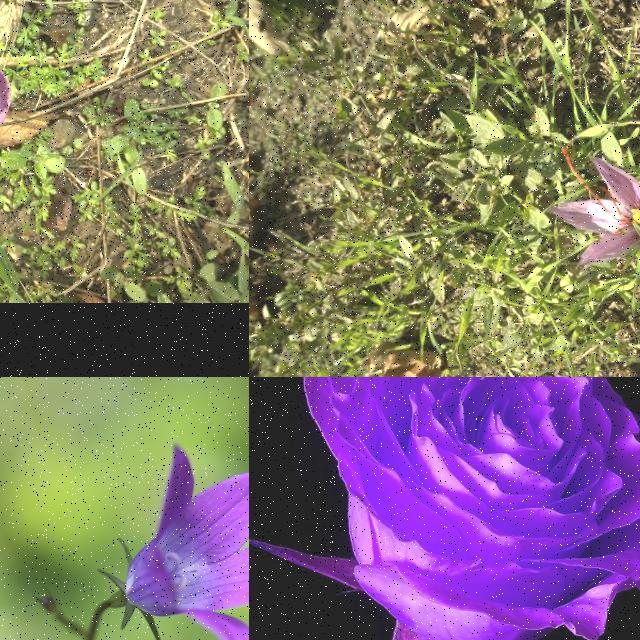flower: (555, 146, 640, 279)
